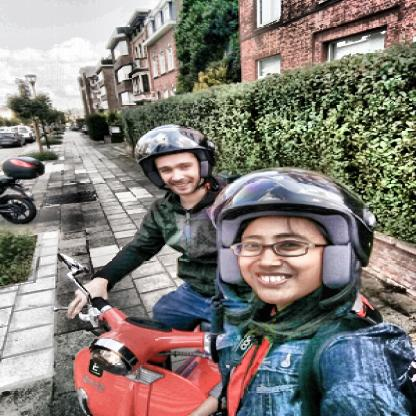wear: (221, 166, 363, 305), (134, 123, 214, 193)
